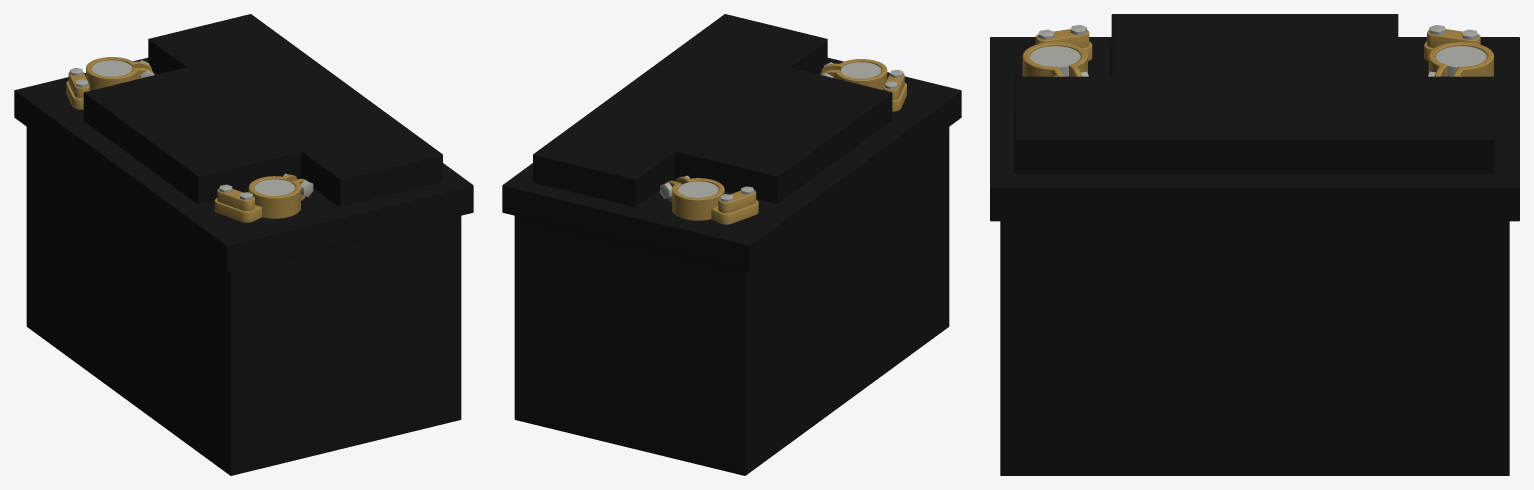
Rendered from BateriaFondo.fbx.
3 renders of one model, left to right at view 1: azimuth 30°, elevation 25°; view 2: azimuth 150°, elevation 25°; view 3: azimuth 270°, elevation 25°, orthographic. The views are drawn at different scales.
Parts seen in each view (by area): view 1: Bateria, Cylinder.005, Cylinder.002, Cylinder.004, Cylinder.006; view 2: Bateria, Cylinder.002, Cylinder.005, Cylinder.004, Cylinder.006; view 3: Bateria, Cylinder.005, Cylinder.002, Cylinder.004, Cylinder.006.
Boxes of the visible parts, x1,y1,x2,y2 form: Bateria: [14, 14, 473, 475]; Cylinder.005: [214, 174, 307, 222]; Cylinder.002: [66, 57, 154, 109]; Cylinder.004: [91, 60, 132, 76]; Cylinder.006: [254, 179, 295, 195]; Bateria: [502, 14, 961, 475]; Cylinder.002: [665, 176, 758, 224]; Cylinder.005: [820, 59, 906, 111]; Cylinder.004: [678, 181, 718, 197]; Cylinder.006: [841, 62, 881, 78]; Bateria: [990, 14, 1519, 475]; Cylinder.005: [1022, 25, 1092, 76]; Cylinder.002: [1424, 25, 1493, 76]; Cylinder.004: [1436, 46, 1486, 76]; Cylinder.006: [1030, 46, 1080, 76].
Size of the model in its own units: 83.68 by 85.41 by 124.
